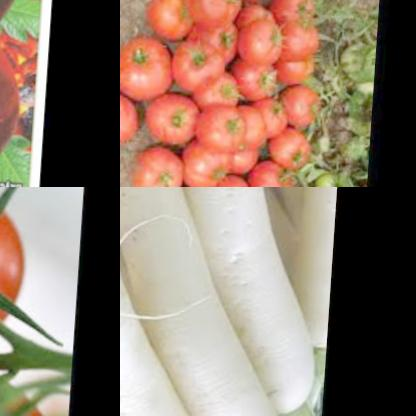redka: (120, 187, 346, 416)
tomato: (0, 23, 31, 187), (120, 32, 185, 97), (175, 40, 231, 94), (135, 140, 194, 187), (276, 14, 331, 60), (180, 142, 235, 187), (153, 90, 200, 142), (242, 15, 294, 60), (205, 105, 254, 151), (197, 16, 245, 61), (282, 81, 328, 127), (147, 0, 204, 37), (200, 68, 252, 107), (275, 126, 321, 169), (239, 53, 282, 93), (253, 155, 306, 187), (120, 87, 145, 149), (189, 0, 249, 24), (258, 94, 293, 135), (273, 0, 322, 25), (282, 47, 320, 79), (216, 173, 262, 187)
